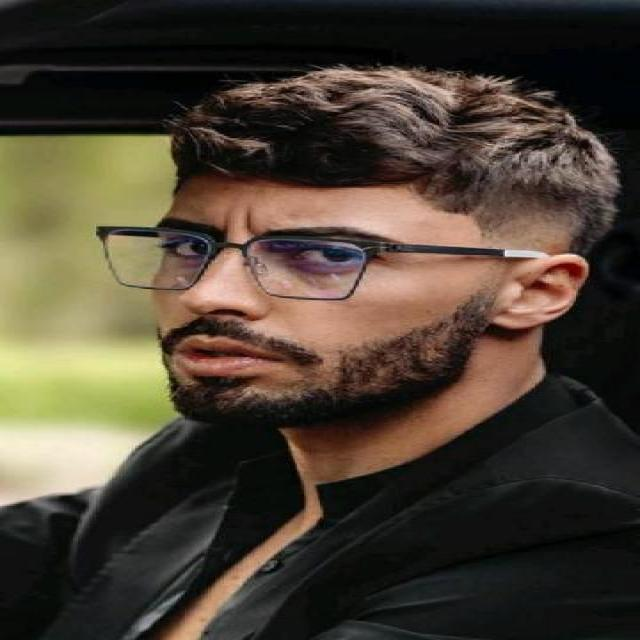glasses: (100, 224, 438, 302)
